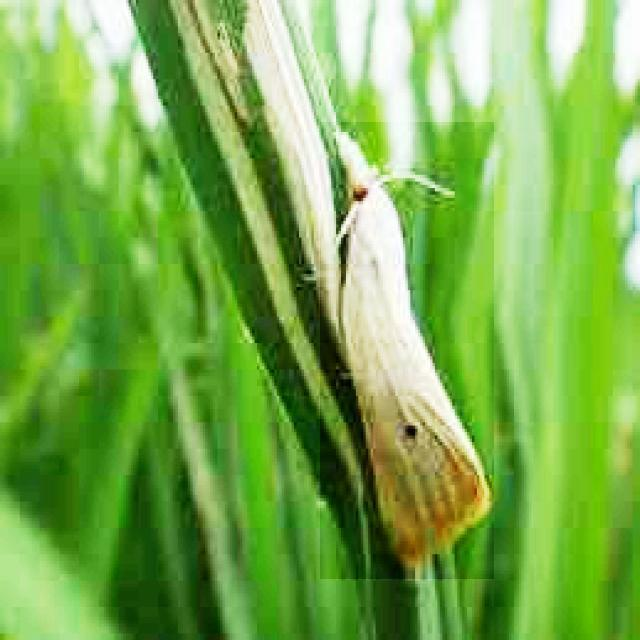stem-borer: (321, 122, 495, 579)
